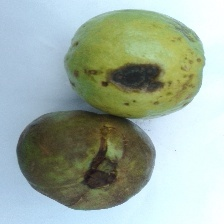guava: (22, 43, 166, 200)
